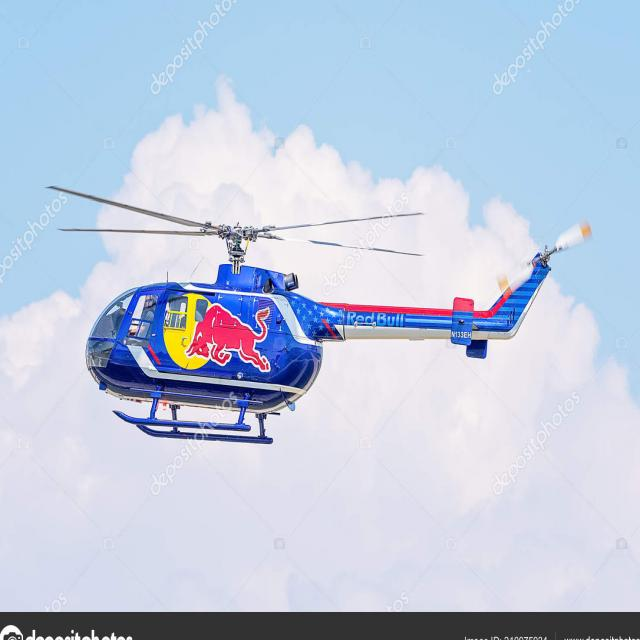helicopter: (48, 186, 597, 440)
